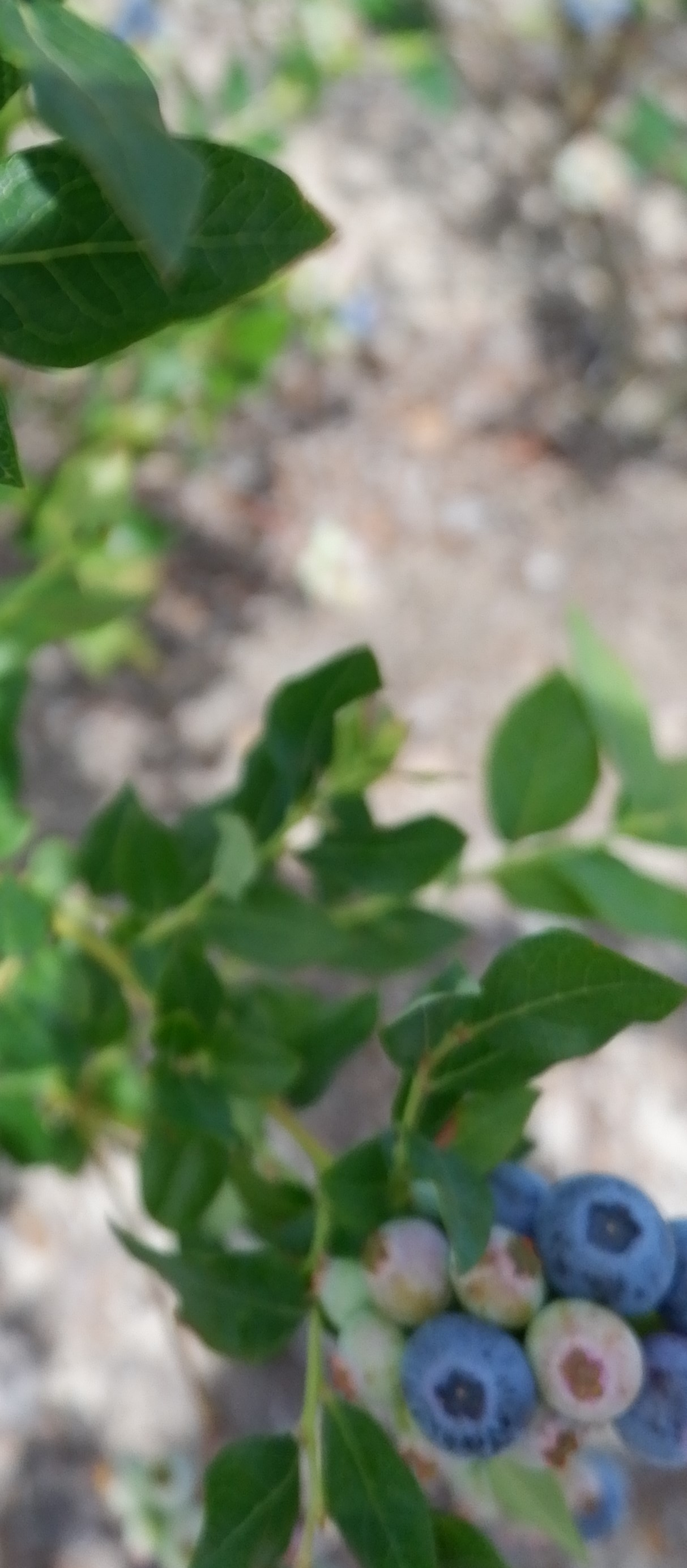Immature: (528, 1302, 642, 1421), (334, 1311, 413, 1437), (363, 1222, 451, 1324), (457, 1230, 541, 1324)
Mature: (534, 1180, 673, 1316), (404, 1317, 531, 1460), (618, 1336, 685, 1472), (634, 1219, 684, 1334), (492, 1164, 551, 1236)
